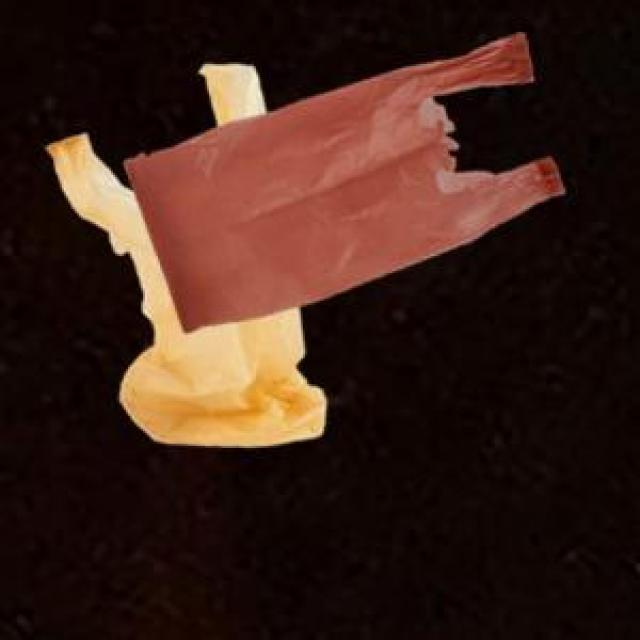plastic: (30, 23, 558, 453)
